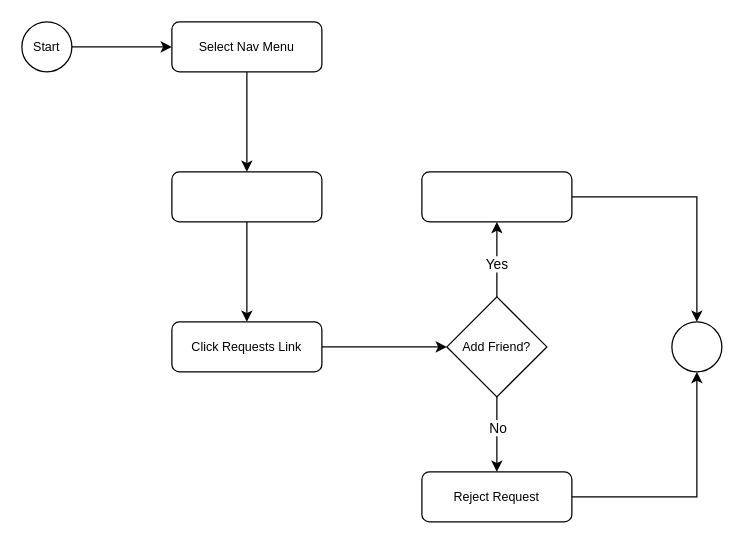
Some shapes in this 744 by 544 pixel diagram are drawn without their labels. Here are the shapes that lost their labels. From the top down, the centre of each, then its label:
the point at 246,196: Click Friends Link
the point at 496,196: Accept Request
the point at 696,346: Finish
